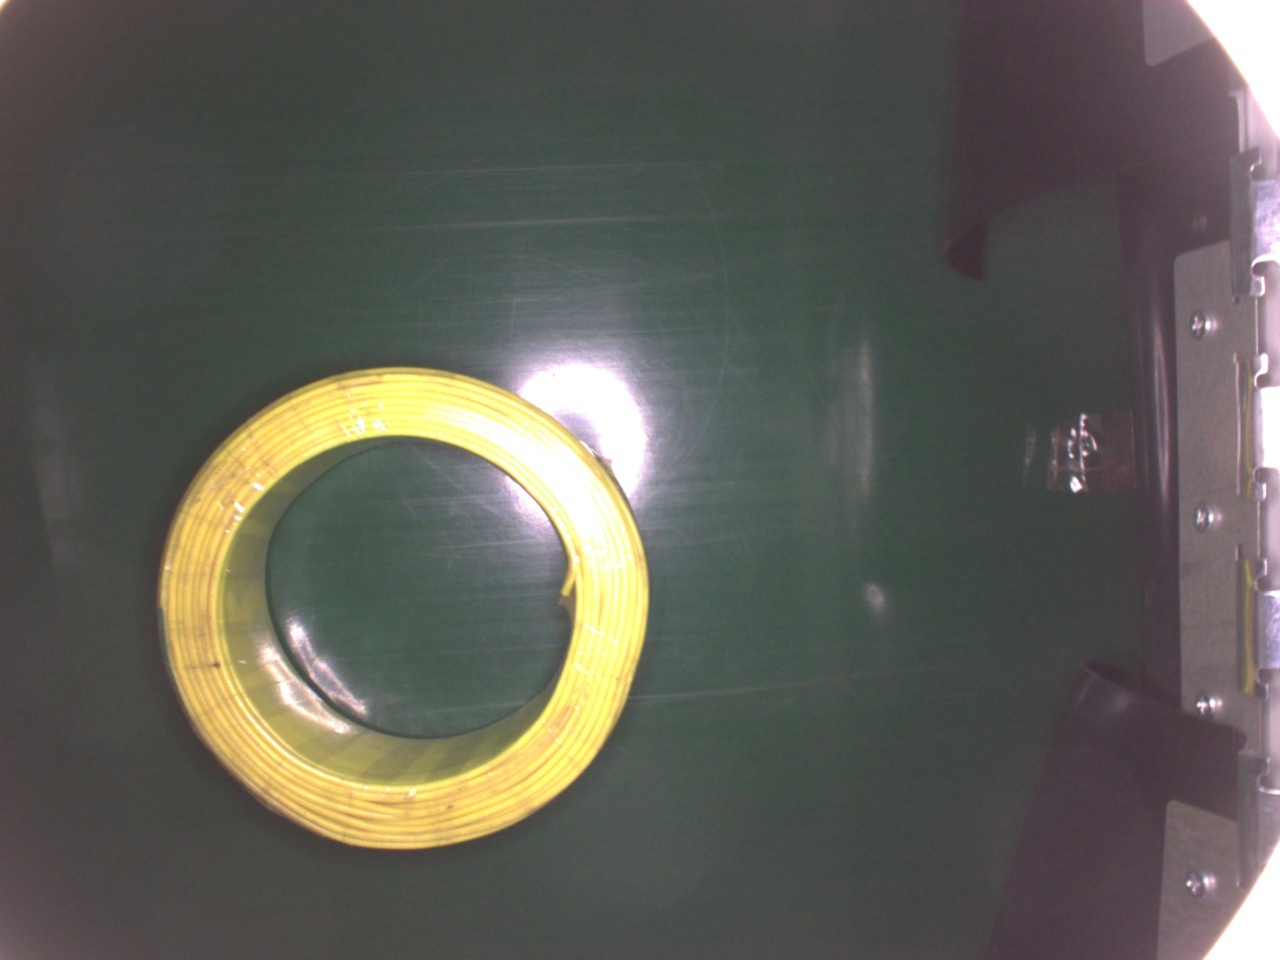yellow: (155, 359, 646, 850)
